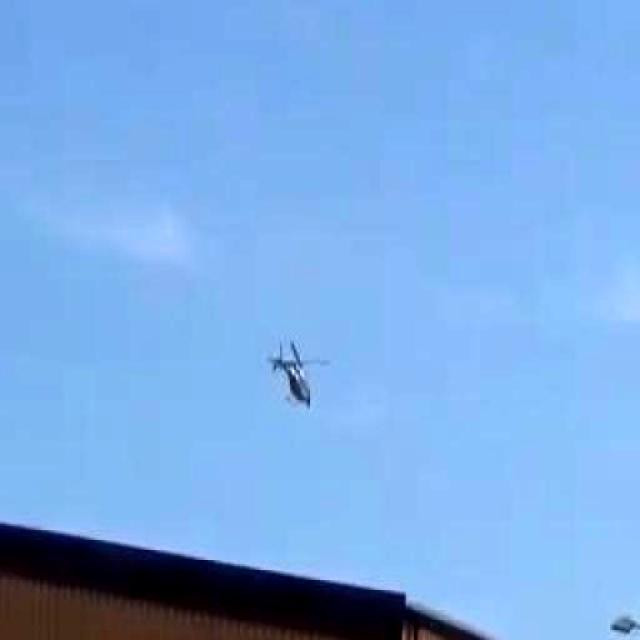drone: (240, 302, 334, 445)
